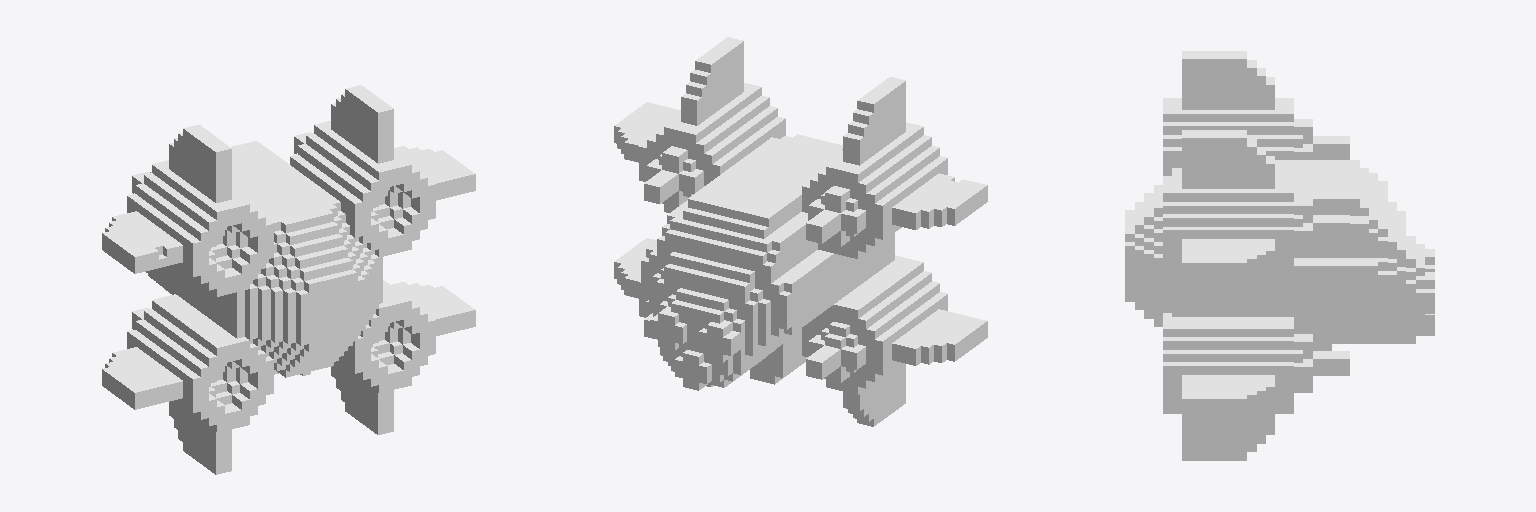
Rendered from erinys.obj.
3 views of the same model, side by side, from view 1: azimuth 30°, elevation 25°; view 2: azimuth 150°, elevation 25°; view 3: azimuth 270°, elevation 25° (orthographic).
Visible parts, largest first — view 1: object 1; view 2: object 1; view 3: object 1.
Boxes of the visible parts, <box> form: object 1: <box>102,85,475,474</box>; object 1: <box>614,37,987,426</box>; object 1: <box>1125,51,1434,460</box>.
Size of the model in its own units: 4.2 by 3.8 by 3.3.